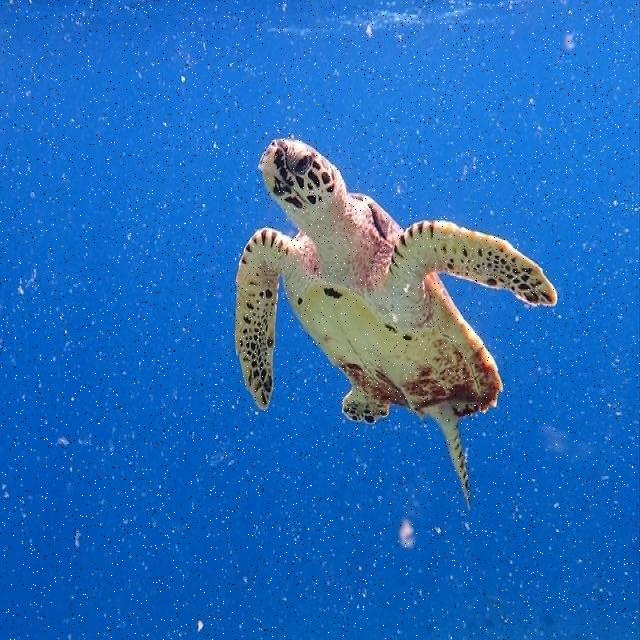fish: (236, 137, 555, 504)
